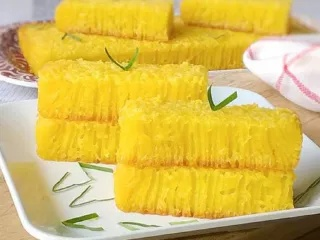bika_ambon: (104, 105, 301, 220), (29, 61, 220, 177)
